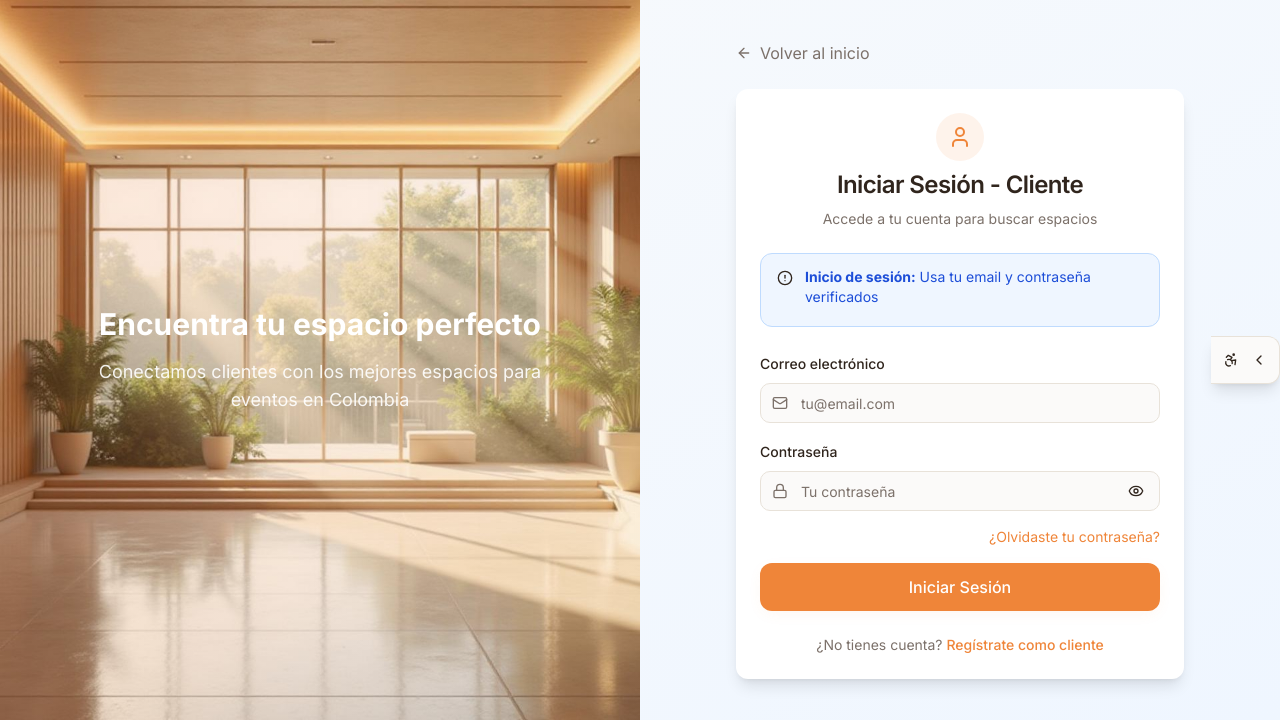
Test case: Client Login - Tests de Inicio de Sesión › Error Handling › debe manejar error de red
The width and height of the screenshot is (1280, 720).
Type "test@example.com" into the field with id "email" at (960,403), box [760,383,1160,423]
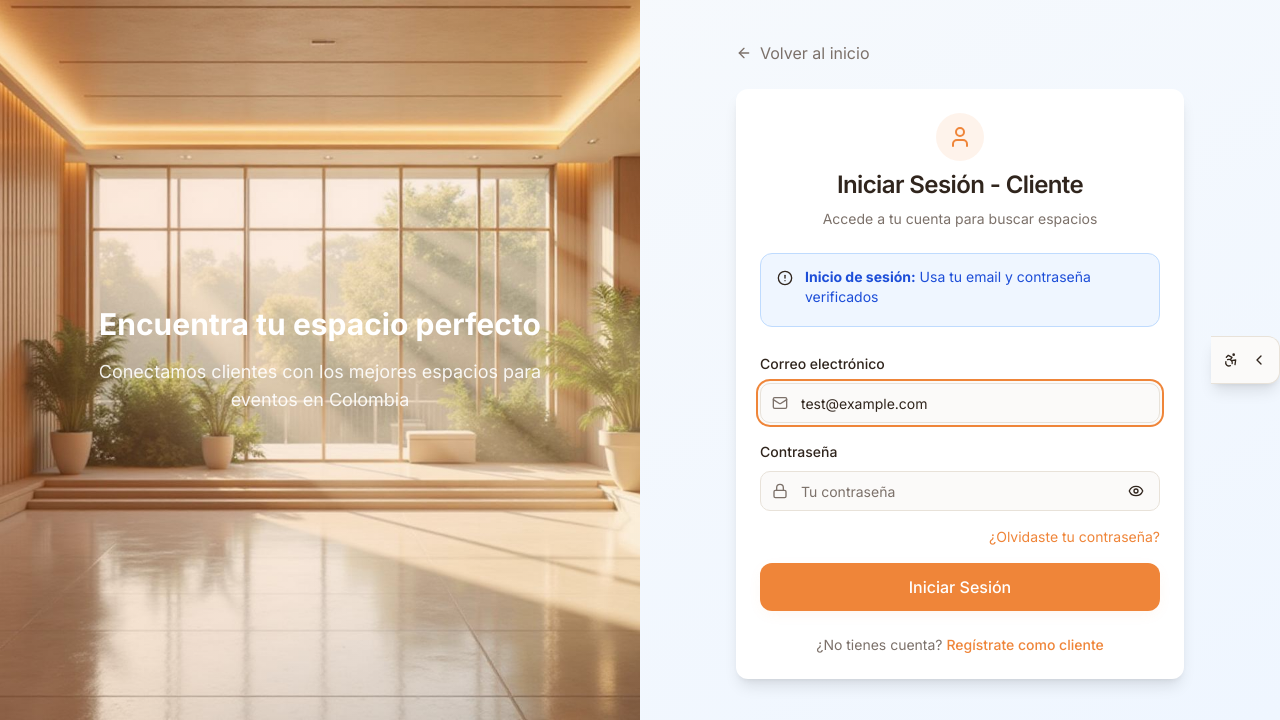
Type "password123" into the password field labelled "Contraseña" at (960,491), box [760,471,1160,511]
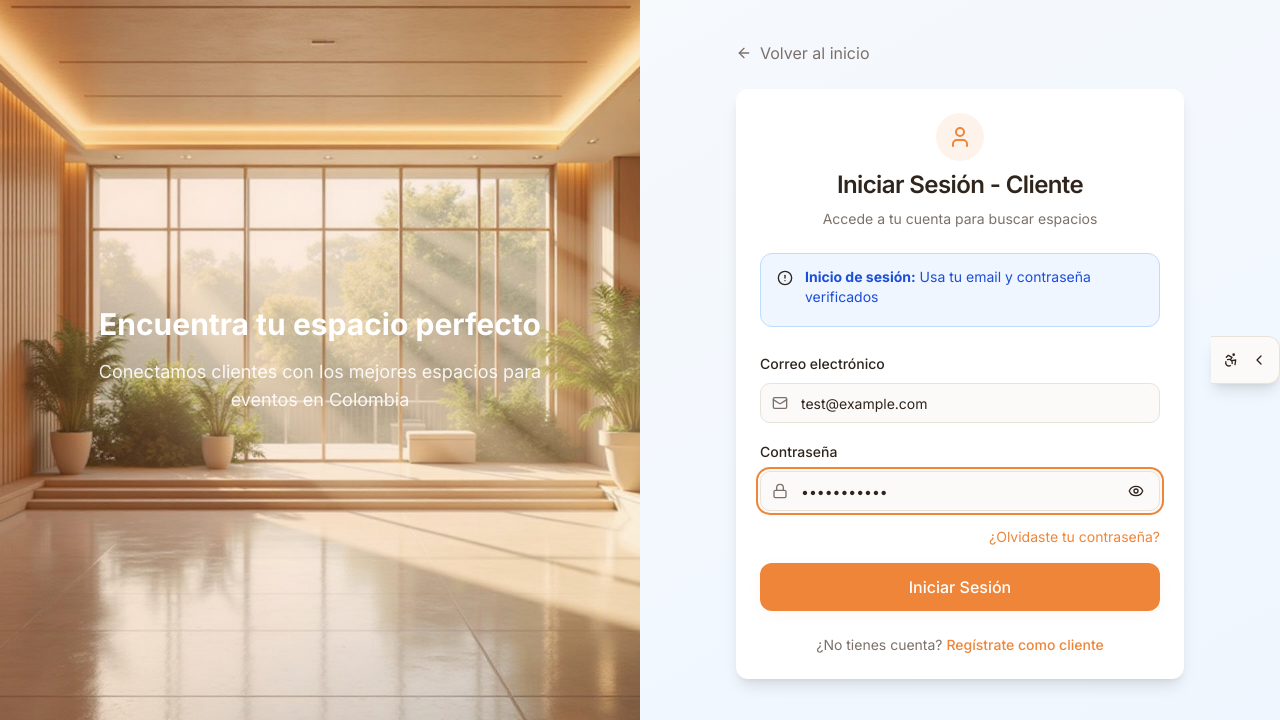
Click the submit button at (960,587), box [760,563,1160,611]
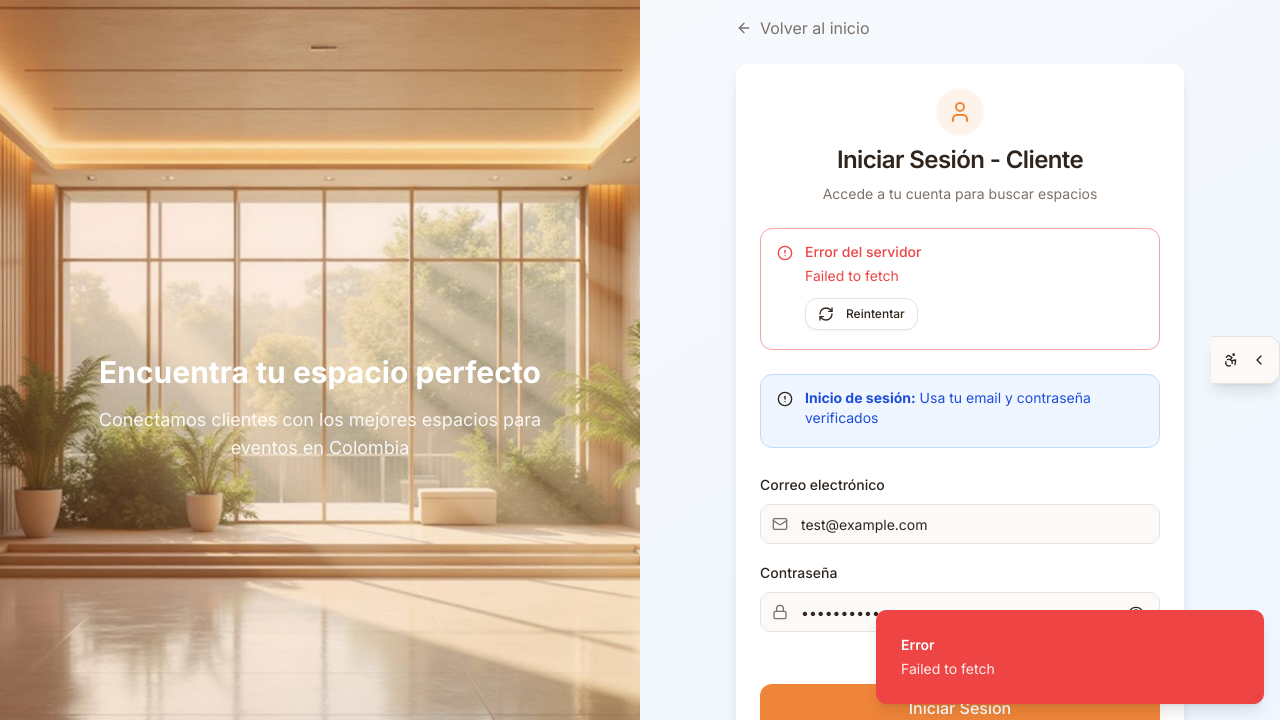
Expected: the text "Error" is shown, [901,636,934,653]
